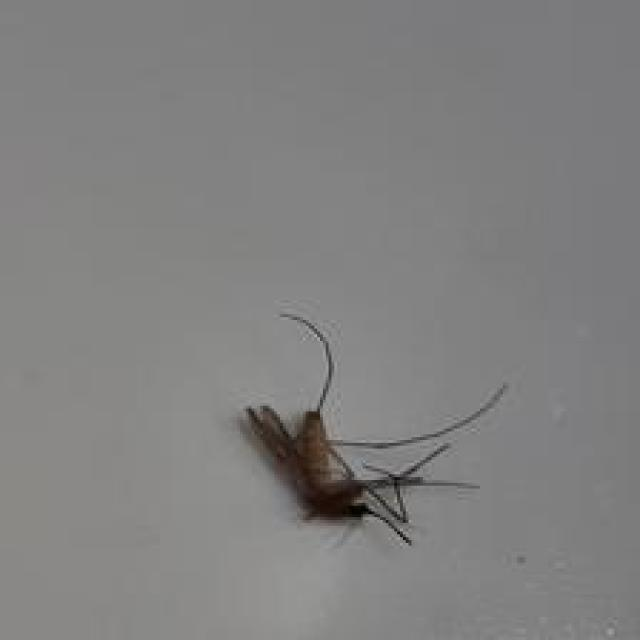Culex: (240, 310, 509, 550)
